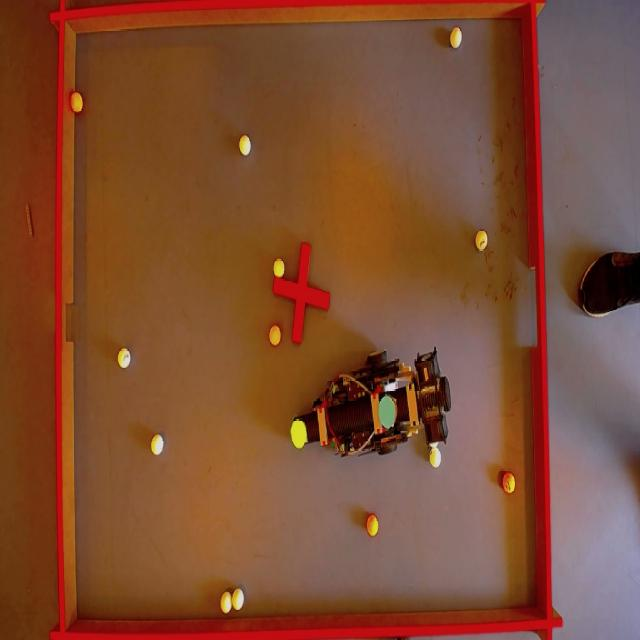orange: (366, 516, 382, 537), (70, 91, 84, 112), (268, 326, 282, 346), (504, 475, 518, 493)
robot: (288, 353, 460, 464)
robot-front: (290, 420, 309, 450)
robot-rear: (376, 390, 397, 430)
white: (152, 434, 166, 456), (448, 26, 462, 48), (238, 134, 252, 155), (118, 347, 132, 367), (474, 230, 488, 250), (272, 258, 285, 279), (430, 447, 443, 468), (232, 588, 245, 609), (222, 592, 234, 613)
